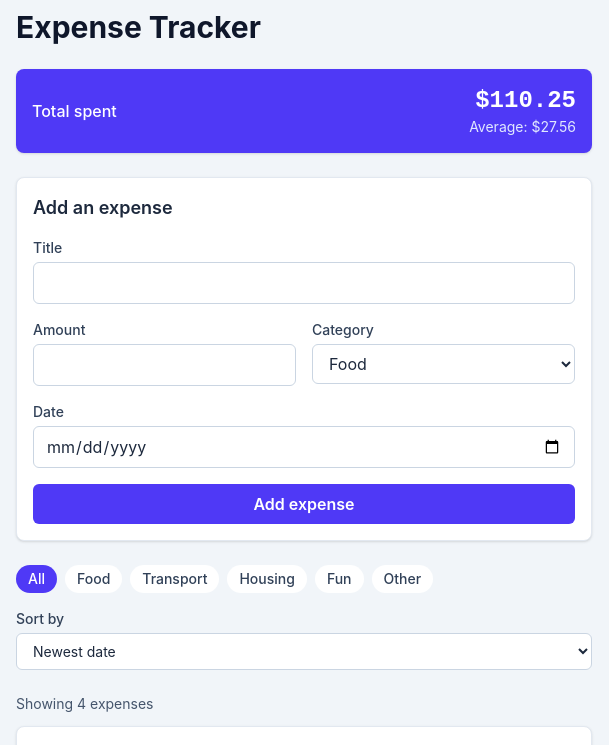
Test: App › shows only the expenses of the chosen category
What coordinates should you click on to do the following:
click the button "fun"
I would click on:
 (339, 579)
Its box is [315, 565, 364, 593].
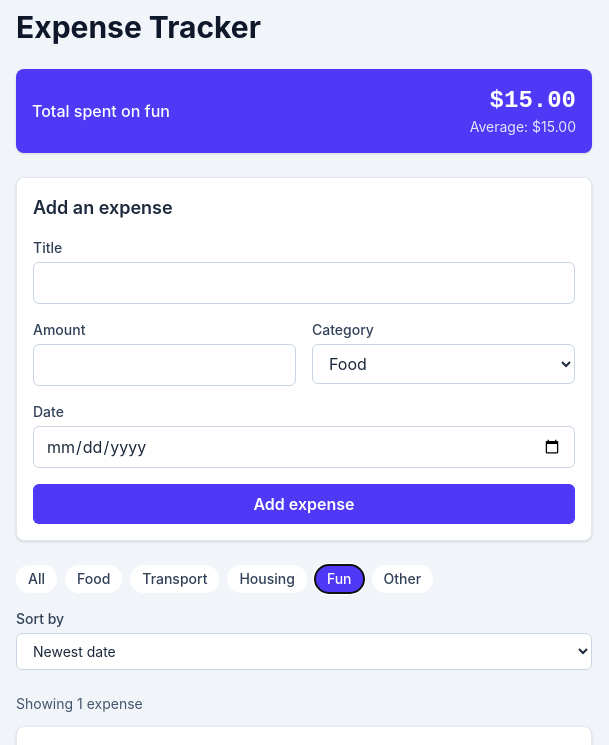
Expected: the text "Showing 1 expense" is shown, [16, 695, 143, 712]
Expected: the text "$15.00" is shown, [490, 87, 576, 114]
